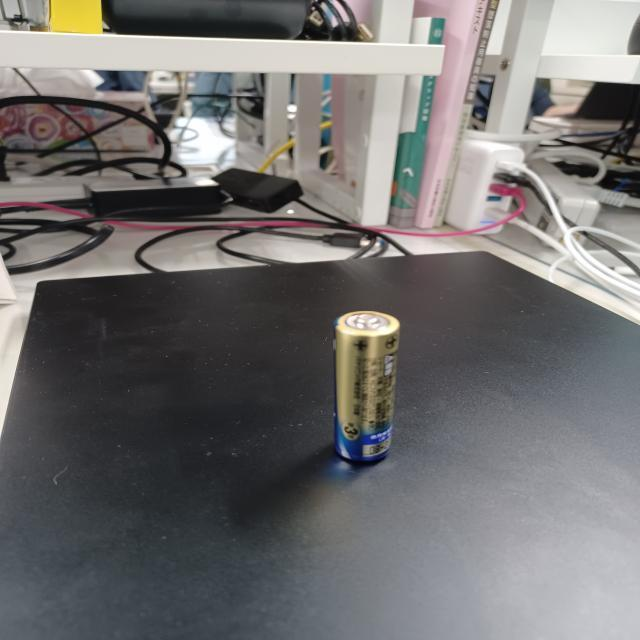Hazard: (331, 308, 402, 462)
